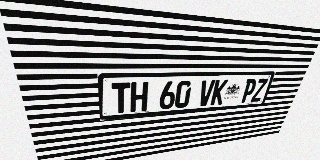0: (174, 80, 192, 108)
6: (159, 81, 177, 110)
H: (130, 82, 148, 112)
K: (210, 79, 228, 105)
P: (240, 79, 258, 103)
T: (112, 82, 130, 114)
V: (197, 80, 216, 106)
Z: (250, 78, 268, 102)
